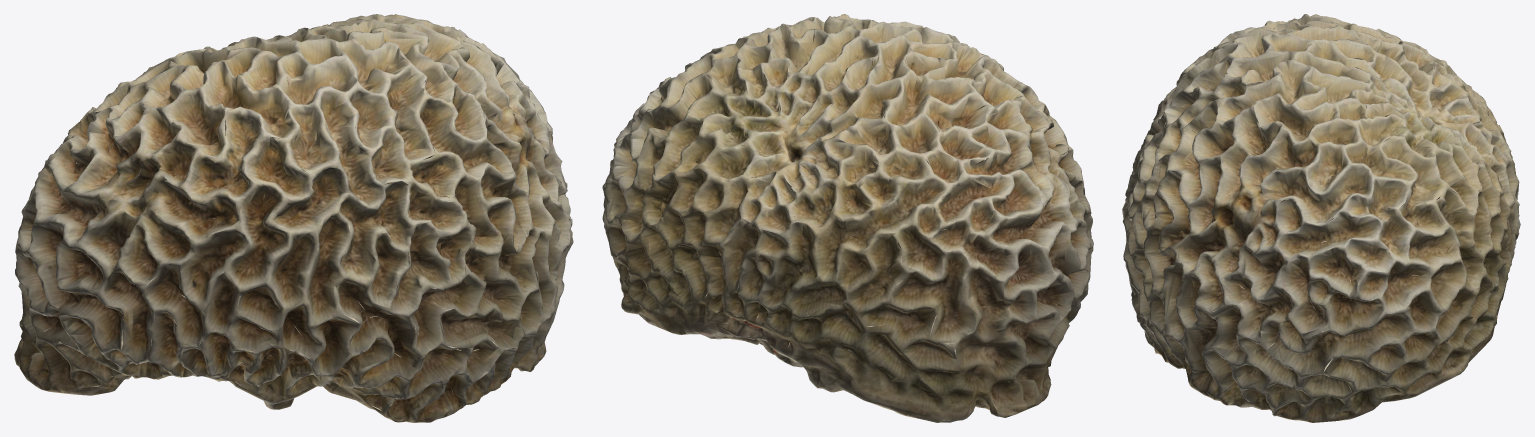
The model's file is Goniastrea favulus.fbx.
3 renders of one model, left to right at view 1: azimuth 30°, elevation 25°; view 2: azimuth 150°, elevation 25°; view 3: azimuth 270°, elevation 25°, orthographic. The views are drawn at different scales.
Visible parts, largest first — view 1: Mesh_0.001; view 2: Mesh_0.001; view 3: Mesh_0.001.
Boxes of the visible parts, bbox=[...] form: Mesh_0.001: bbox=[14, 14, 573, 422]; Mesh_0.001: bbox=[602, 14, 1093, 422]; Mesh_0.001: bbox=[1122, 14, 1520, 422].
Size of the model in its own units: 9.12 by 5.92 by 7.18.
